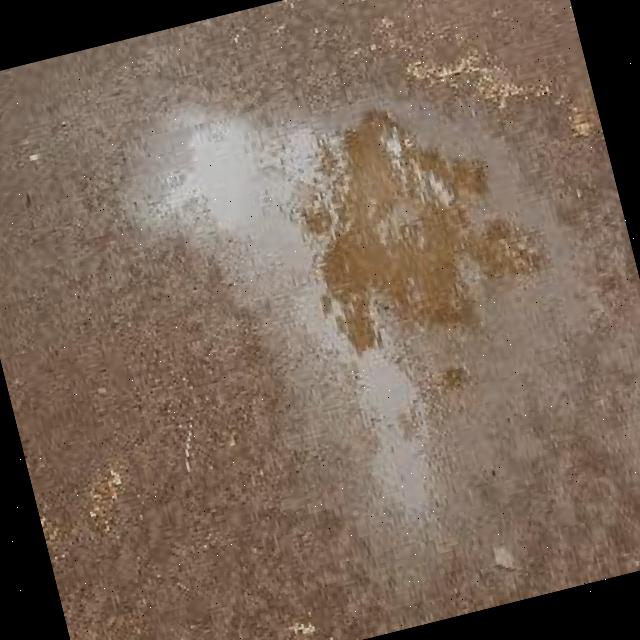stagnation: (301, 96, 547, 358)
